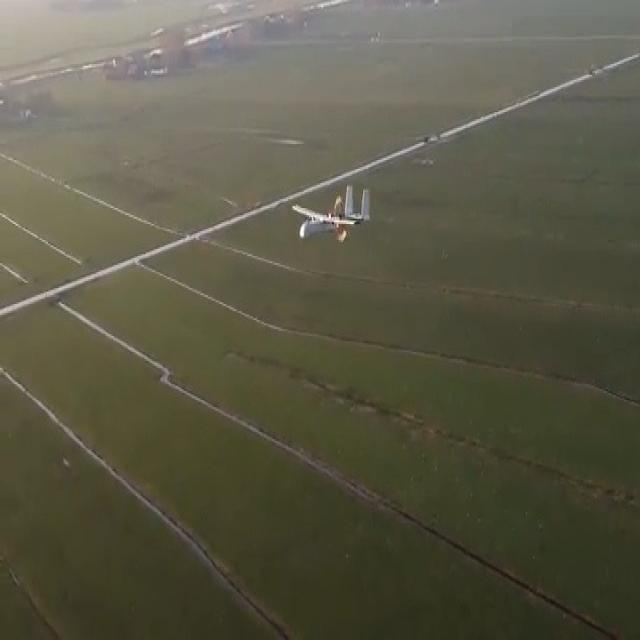iha: (325, 208, 341, 230)
